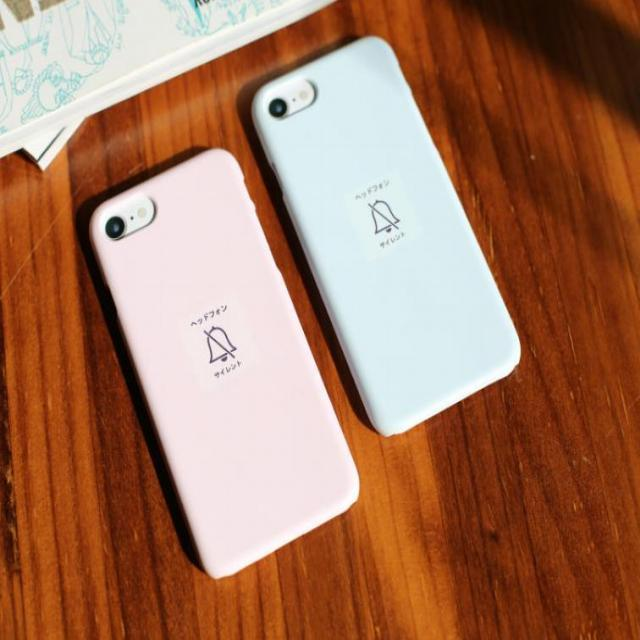phone: (90, 148, 363, 578)
